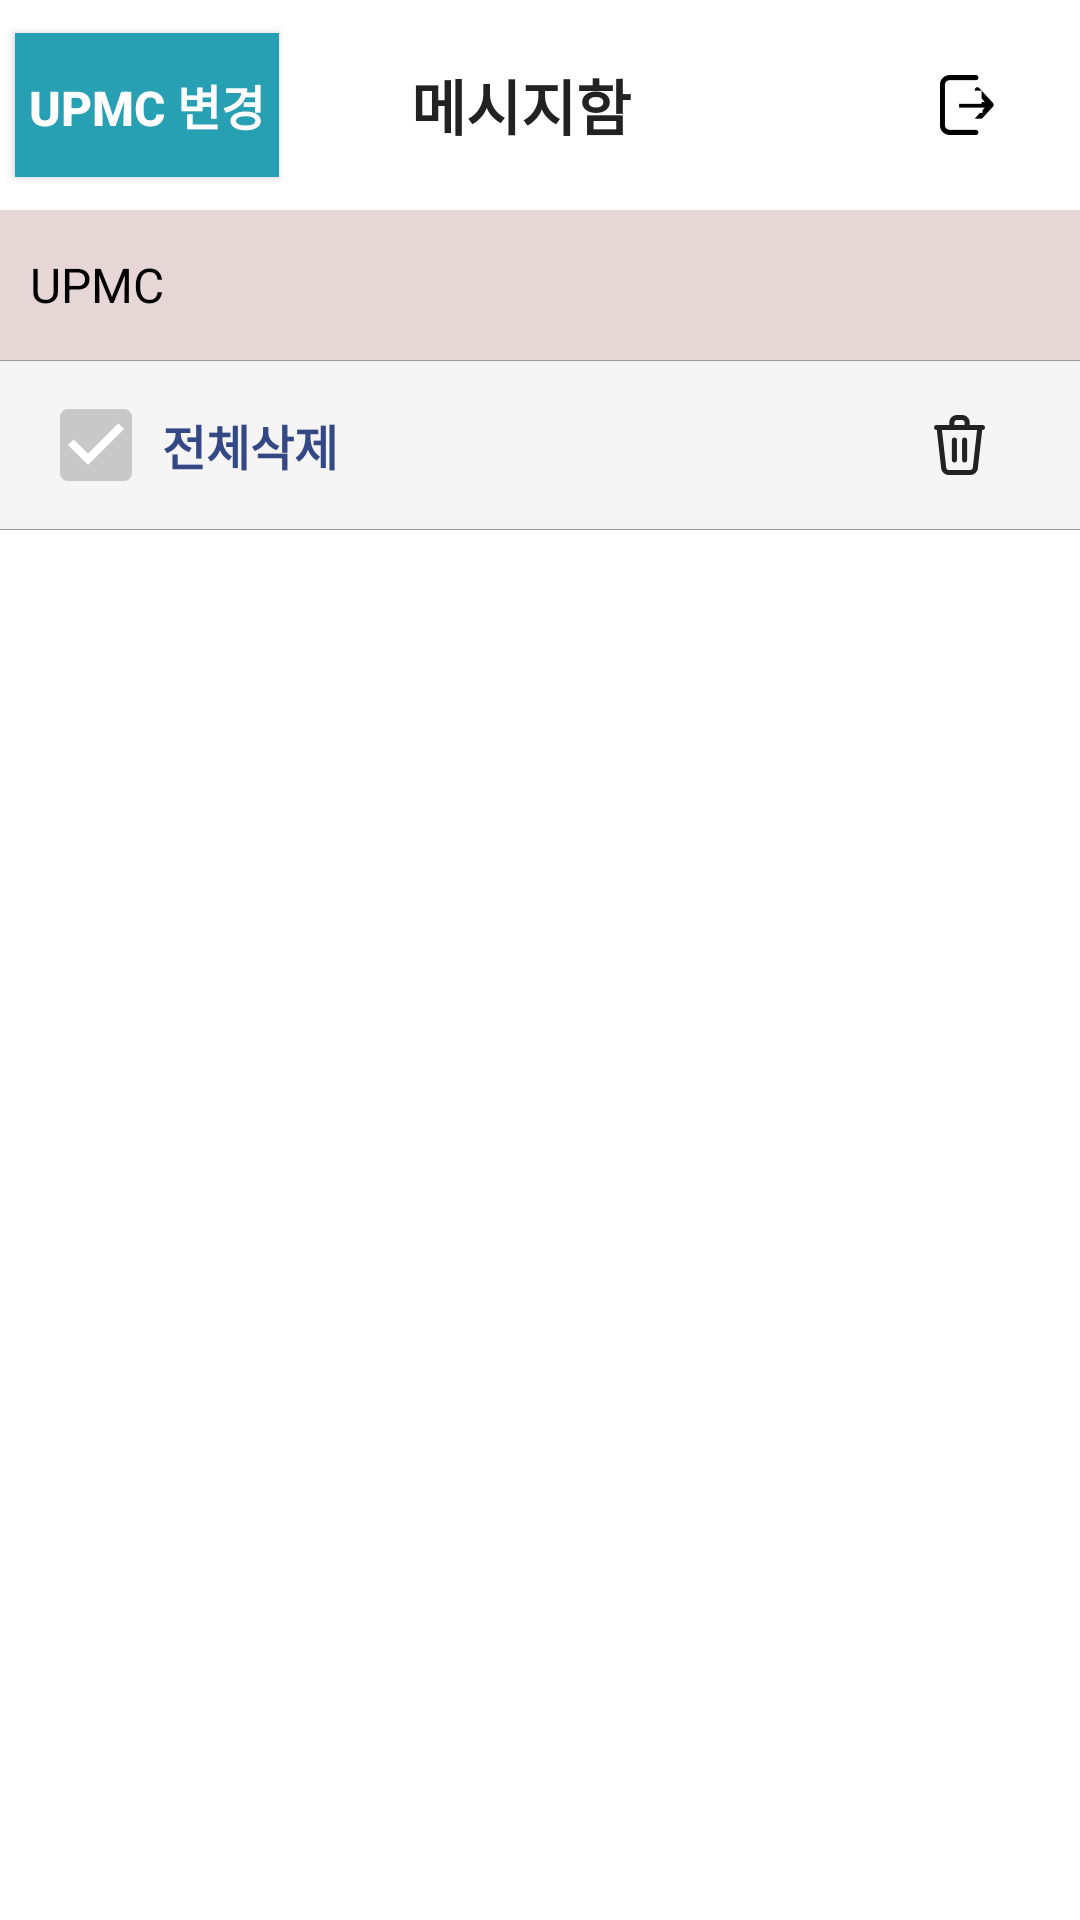

Icons on this 1080px×1920px Android screen, each with its box as [x1=x1, y1=y1, x2=x2, y2=y2]:
check off: [x1=60, y1=409, x2=132, y2=481]
